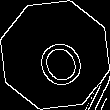O_NW: (24, 22, 86, 88)
